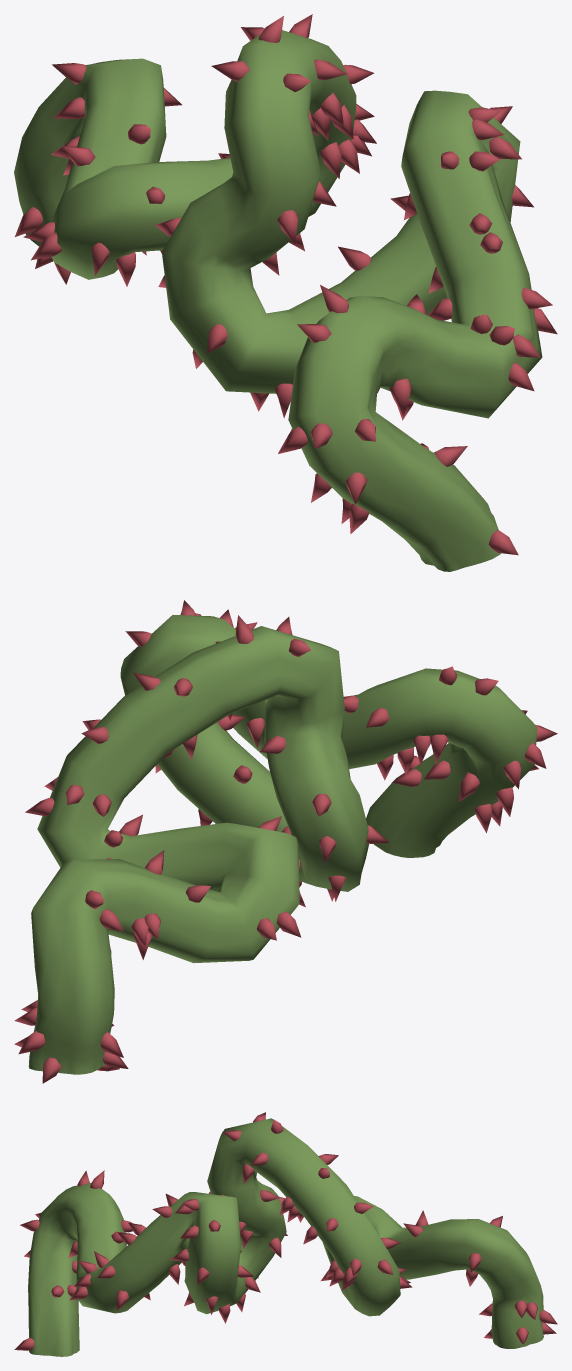
File: Ciernie2.fbx
3 renders of one model, top to bottom at view 1: azimuth 30°, elevation 25°; view 2: azimuth 150°, elevation 25°; view 3: azimuth 270°, elevation 25°, orthographic. The views are drawn at different scales.
Parts seen in each view (by area): view 1: Ciernie2; view 2: Ciernie2; view 3: Ciernie2.
Boxes of the visible parts, left/top/right/bottom form: Ciernie2: left=14, top=14, right=557, bottom=571; Ciernie2: left=14, top=600, right=557, bottom=1083; Ciernie2: left=14, top=1112, right=557, bottom=1356.
Size of the model in its own units: 6.2 by 6.47 by 13.41.
